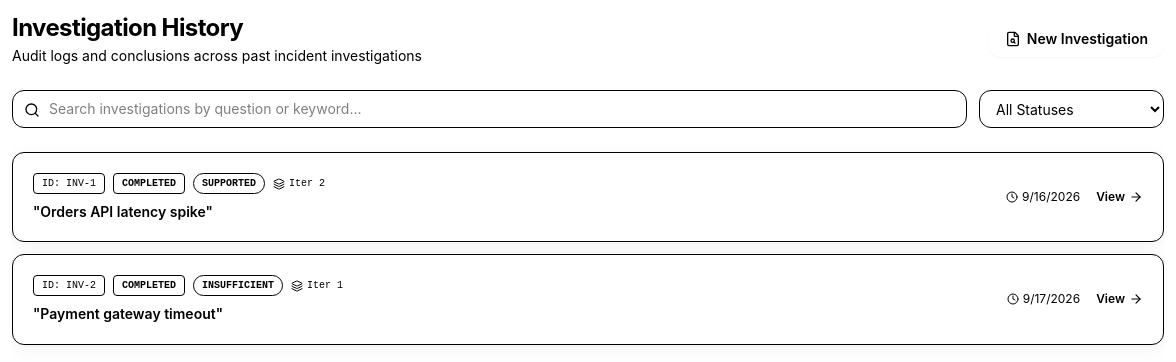
Test: Page Integration Tests › renders History page and filters by search text
Expected: the heading "\"Orders API latency spike\"" is shown, [33,203,213,220]
Expected: the heading "\"Payment gateway timeout\"" is shown, [33,305,223,322]
Note: Search filter
Type "Payment" into the field with placeholder "Search investigations by question or keyword..." at (490, 109), box [12,90,967,128]
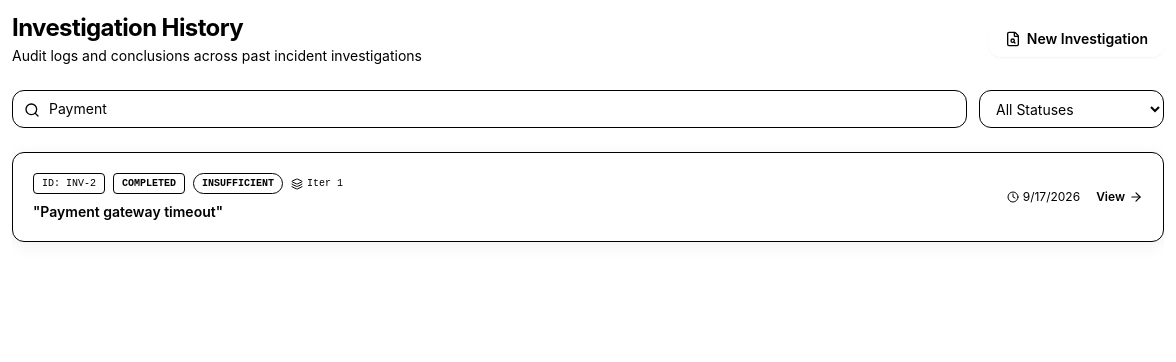
Expected: the heading "\"Payment gateway timeout\"" is shown, [33,203,223,220]
Expected: the link "\"Orders API latency spike\"" is gone
